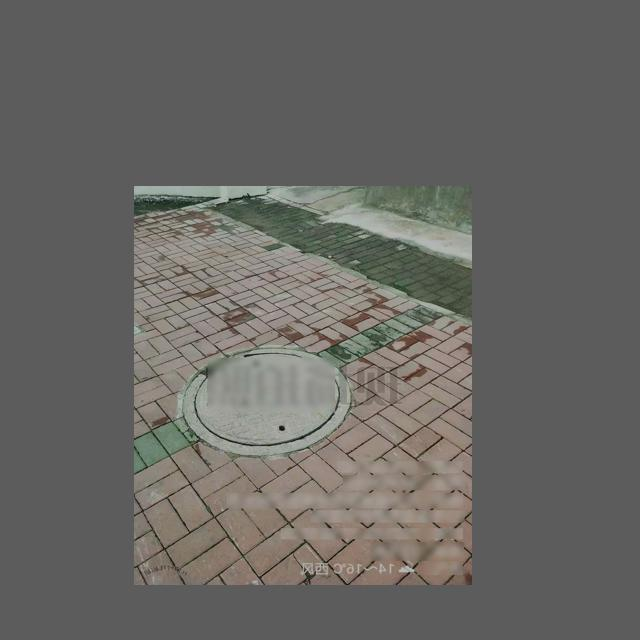circle: (181, 348, 355, 459)
